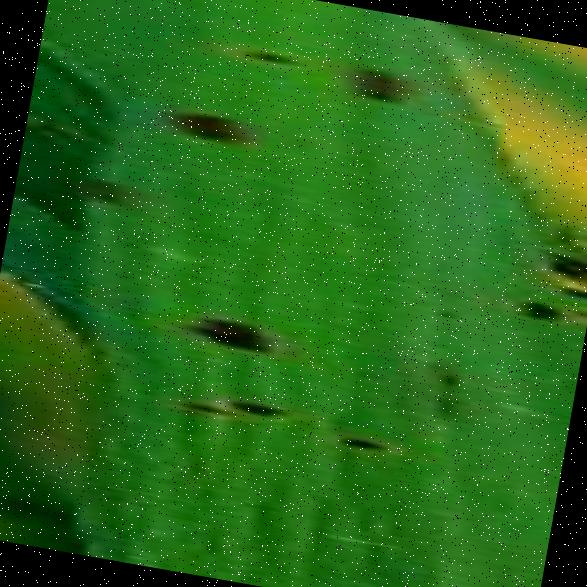Brown_Spot: (163, 290, 292, 369), (140, 88, 262, 160), (328, 44, 425, 126), (212, 26, 324, 81), (489, 276, 576, 338), (322, 420, 410, 460), (76, 162, 136, 218), (218, 384, 294, 428), (474, 476, 524, 528), (420, 382, 473, 428), (171, 390, 235, 426), (418, 290, 465, 325), (429, 362, 467, 389), (112, 228, 140, 252)
